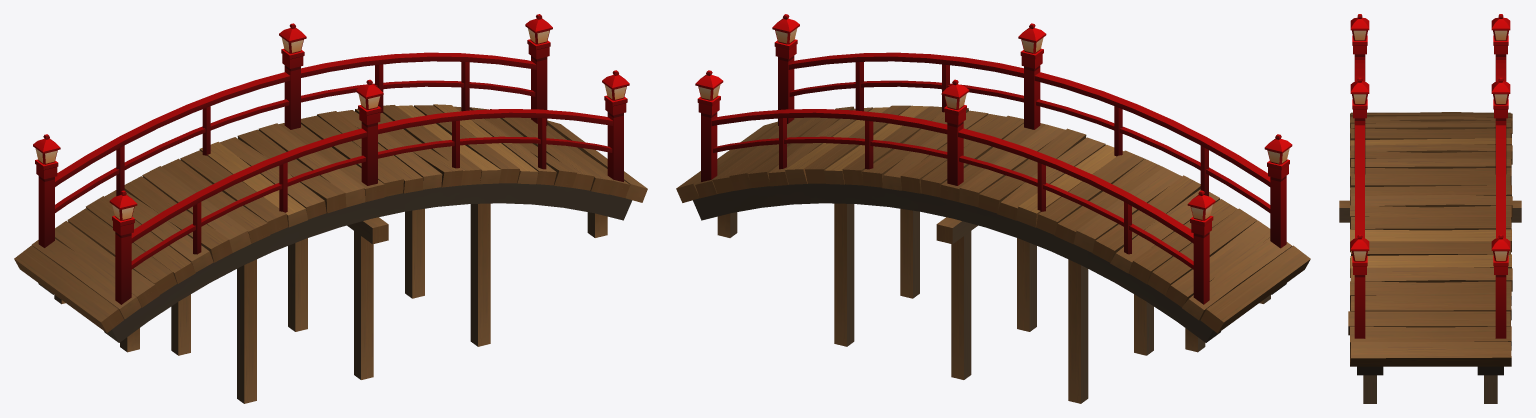
File: SK_Bridge_A.FBX
The picture shows the model from 3 angles, left to right: view 1: azimuth 30°, elevation 25°; view 2: azimuth 150°, elevation 25°; view 3: azimuth 270°, elevation 25°; orthographic projection. The views are drawn at different scales.
Parts seen in each view (by area): view 1: SK_Bridge_A002, SK_Bridge_A001, SK_Bridge_A003, SK_Bridge_A_light; view 2: SK_Bridge_A002, SK_Bridge_A001, SK_Bridge_A003, SK_Bridge_A_light; view 3: SK_Bridge_A002, SK_Bridge_A001, SK_Bridge_A003, SK_Bridge_A_light.
Boxes of the visible parts, box(x1,y1,x2,y2) form: SK_Bridge_A002: box(14, 104, 647, 332); SK_Bridge_A001: box(33, 14, 629, 304); SK_Bridge_A003: box(38, 183, 632, 403); SK_Bridge_A_light: box(35, 28, 626, 219); SK_Bridge_A002: box(676, 105, 1310, 333); SK_Bridge_A001: box(695, 14, 1292, 304); SK_Bridge_A003: box(693, 183, 1286, 403); SK_Bridge_A_light: box(699, 28, 1289, 219); SK_Bridge_A002: box(1348, 112, 1512, 366); SK_Bridge_A001: box(1350, 14, 1510, 338); SK_Bridge_A003: box(1339, 200, 1521, 403); SK_Bridge_A_light: box(1353, 30, 1507, 260).
Size of the model in its own units: 535 by 280 by 168.
